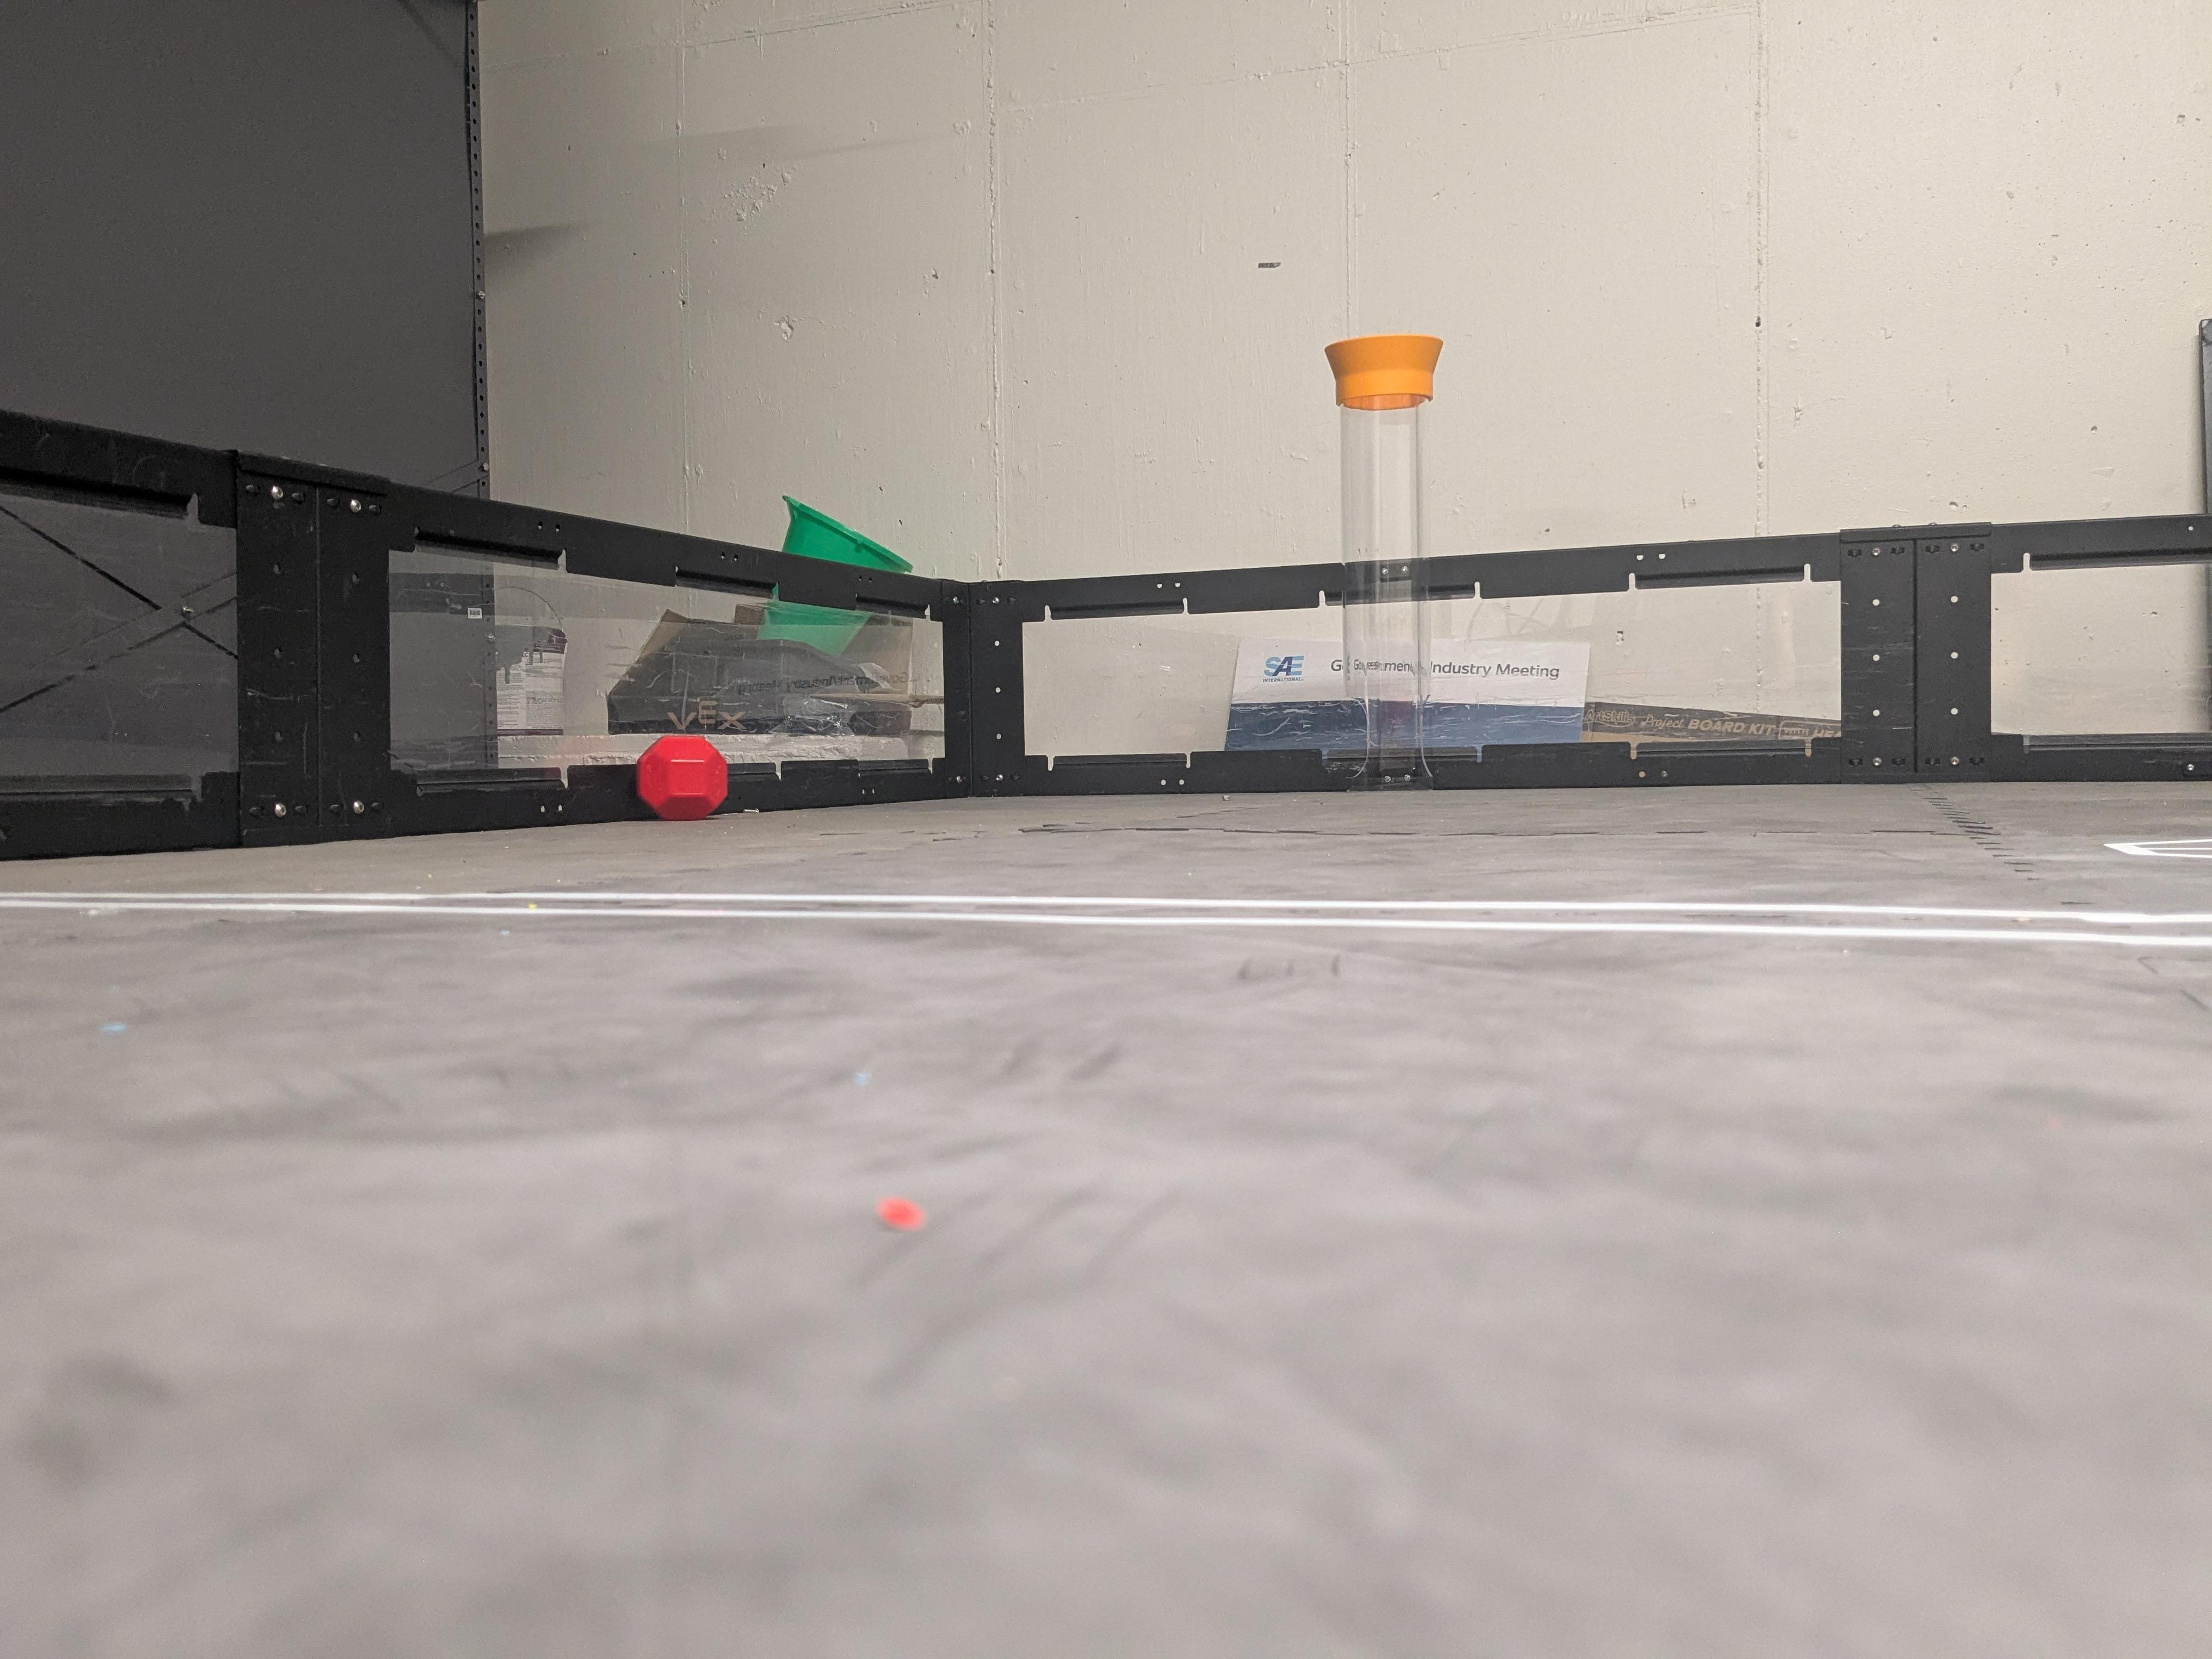Vex-Pieces-RED: (637, 735, 728, 821)
